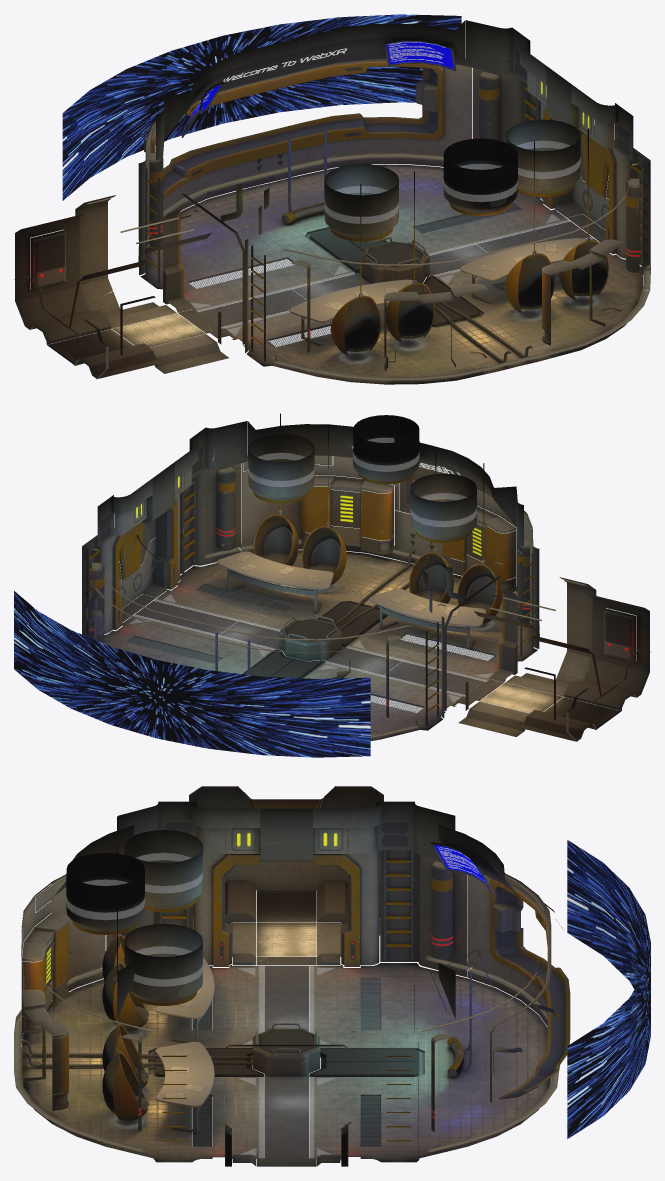
File: room_2.glb
3 views of the same model, one above another, from view 1: azimuth 30°, elevation 25°; view 2: azimuth 150°, elevation 25°; view 3: azimuth 270°, elevation 25° (orthographic). The views are drawn at different scales.
Parts seen in each view (by area): view 1: Object_5, Object_4, Object_2, Object_3; view 2: Object_5, Object_4, Object_2, Object_3; view 3: Object_4, Object_5, Object_2, Object_3.
Boxes of the visible parts, bbox=[...] form: Object_5: bbox=[14, 20, 650, 380]; Object_4: bbox=[140, 119, 643, 384]; Object_2: bbox=[62, 14, 461, 200]; Object_3: bbox=[281, 129, 601, 362]; Object_5: bbox=[82, 421, 650, 741]; Object_4: bbox=[103, 413, 537, 740]; Object_2: bbox=[14, 591, 370, 757]; Object_3: bbox=[215, 526, 496, 678]; Object_4: bbox=[21, 816, 550, 1162]; Object_5: bbox=[14, 786, 570, 1166]; Object_2: bbox=[567, 840, 650, 1138]; Object_3: bbox=[21, 957, 471, 1132].
Bounding box in the file's own units: 10.63 × 3.56 × 10.3.
Materials: 3 (3 with a texture image).
